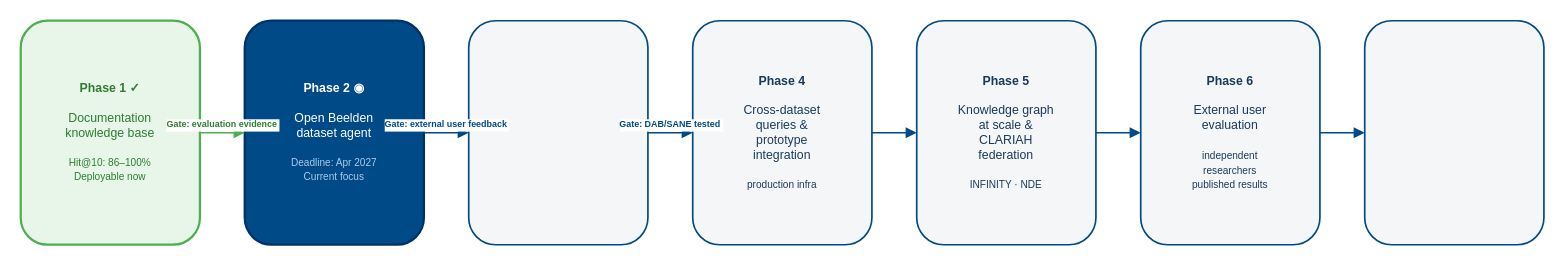
This 1564x264 diagram has some shape labels left out. Each missing label, with the centre of its shape:
"Phase 3 Broadcast & television news agent restricted access SURFconext / DAB" belongs at point (557, 132).
"Phase 7 Reference model for other institutions NDE chain · MCP eval framework" belongs at point (1453, 132).
